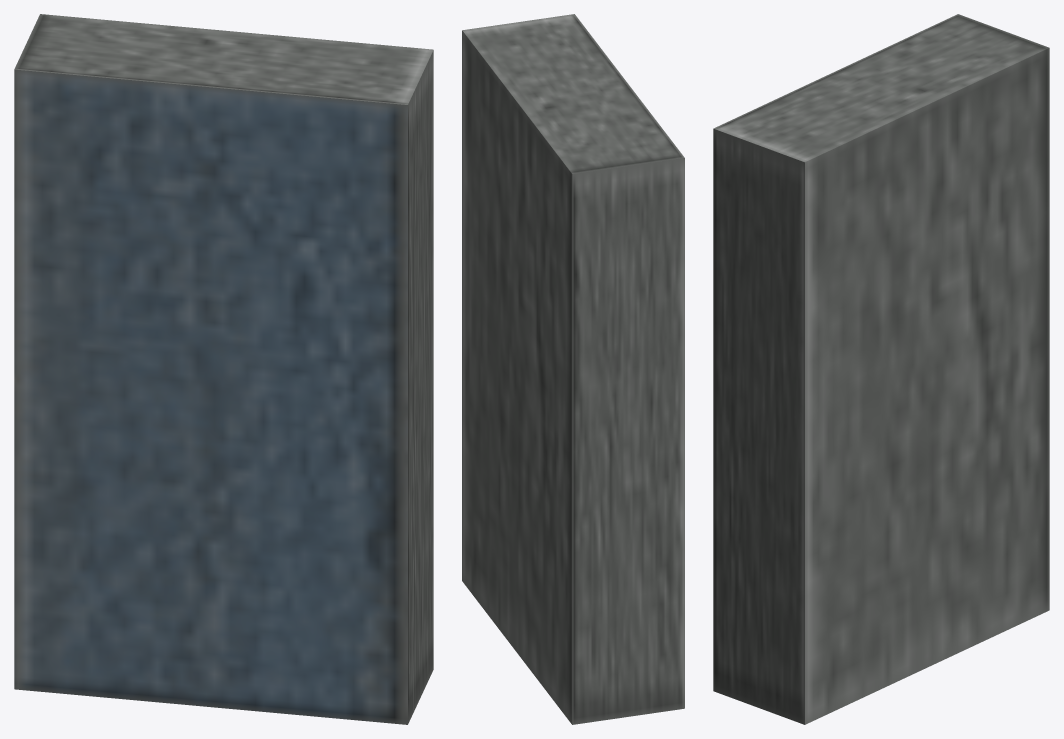
File: brick8.fbx
3 views of the same model, side by side, from view 1: azimuth 30°, elevation 25°; view 2: azimuth 150°, elevation 25°; view 3: azimuth 270°, elevation 25° (orthographic). The views are drawn at different scales.
Parts seen in each view (by area): view 1: polySurface250; view 2: polySurface250; view 3: polySurface250.
Boxes of the visible parts, <box> form: polySurface250: <box>14,14,433,724</box>; polySurface250: <box>462,14,684,724</box>; polySurface250: <box>713,14,1049,724</box>.
Bounding box in the file's own units: 1.03 × 1.82 × 0.9881.
1 material, 1 textured.
